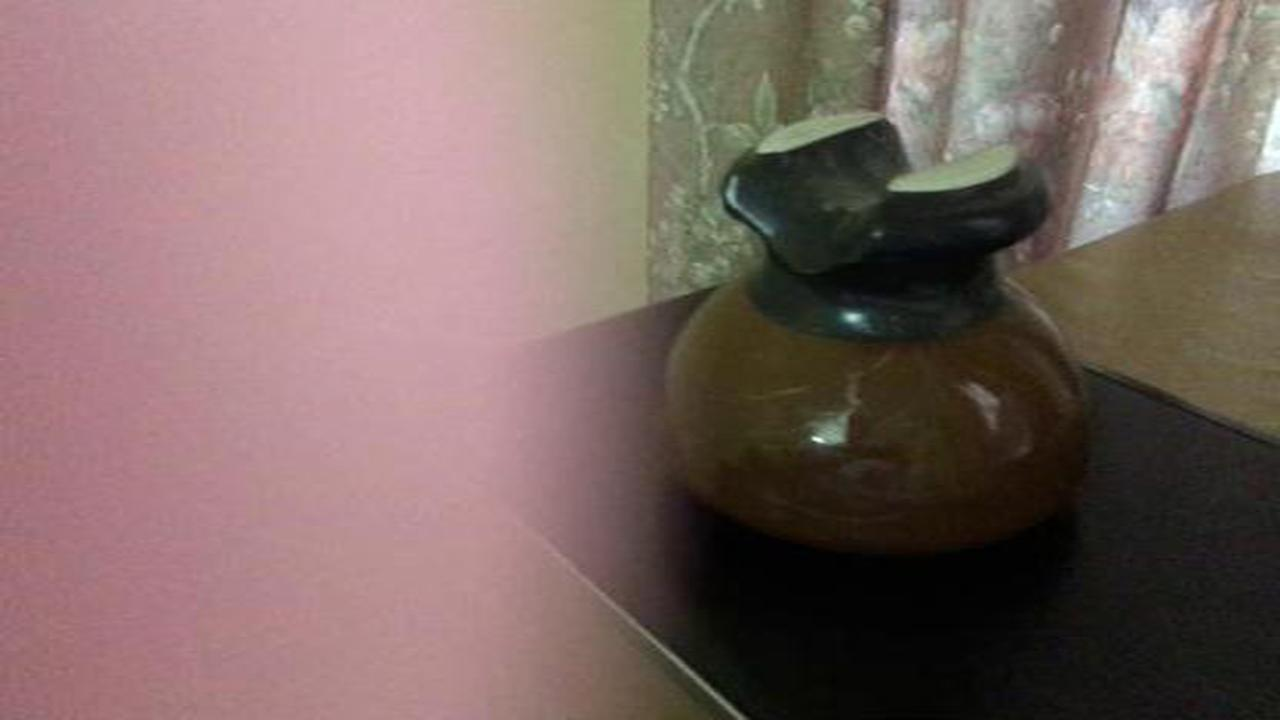insulator_pin: (662, 99, 1105, 566)
